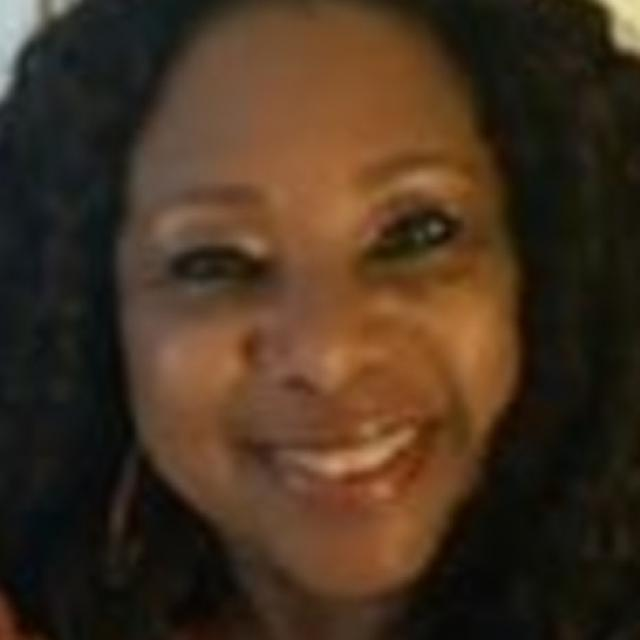Normal: (108, 0, 524, 602)
